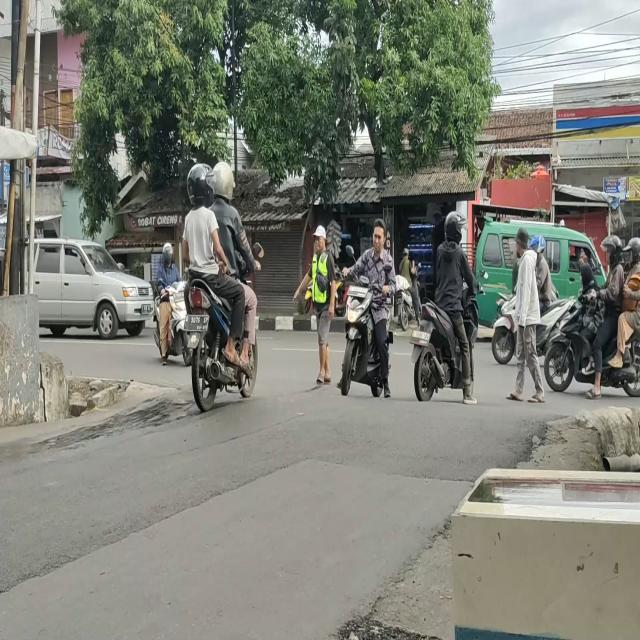helmet: (187, 164, 213, 207), (214, 162, 235, 202), (445, 211, 464, 246), (606, 237, 622, 264), (627, 236, 640, 263), (161, 242, 173, 262), (534, 233, 545, 253)
no-helmet: (371, 222, 387, 253), (581, 264, 593, 288), (402, 249, 409, 260)
